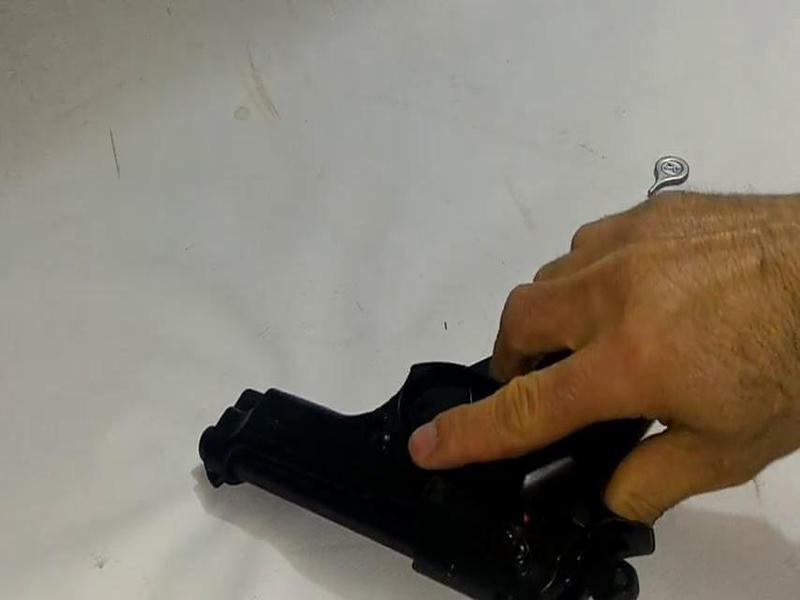Pistola: (162, 293, 675, 598)
